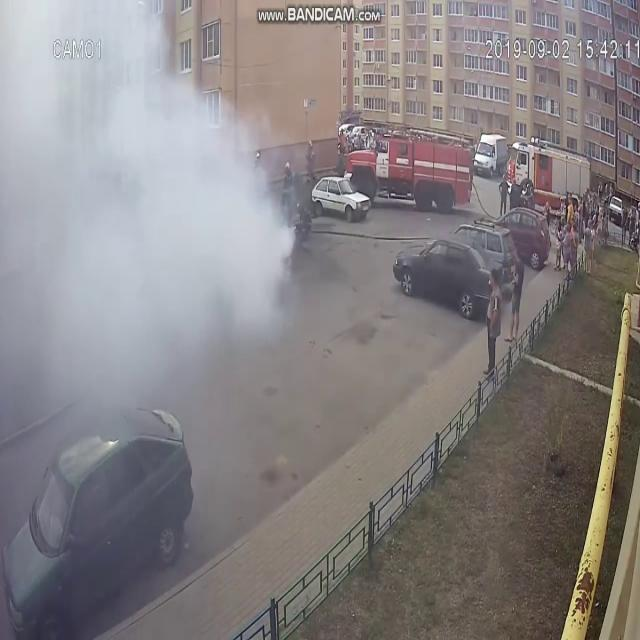Smoke: (0, 1, 294, 601)
